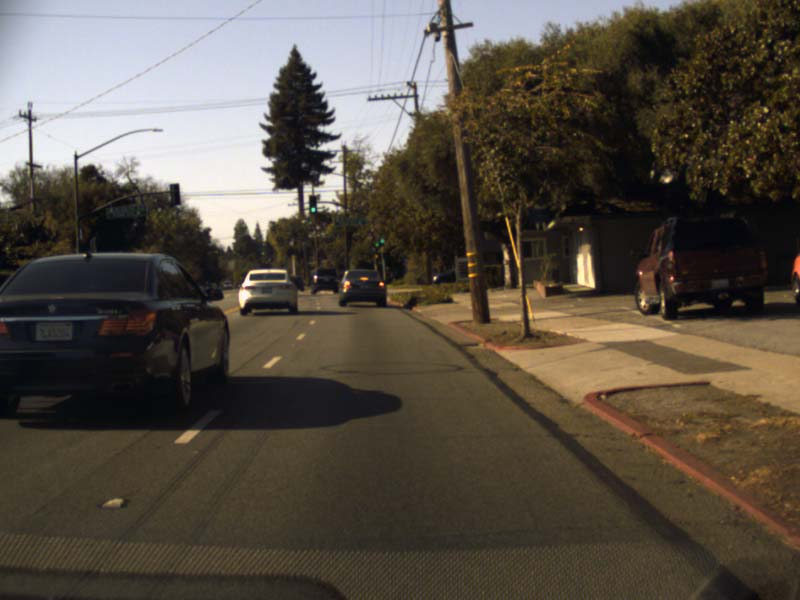Green: (309, 195, 317, 213), (379, 230, 386, 244), (372, 233, 379, 247)
